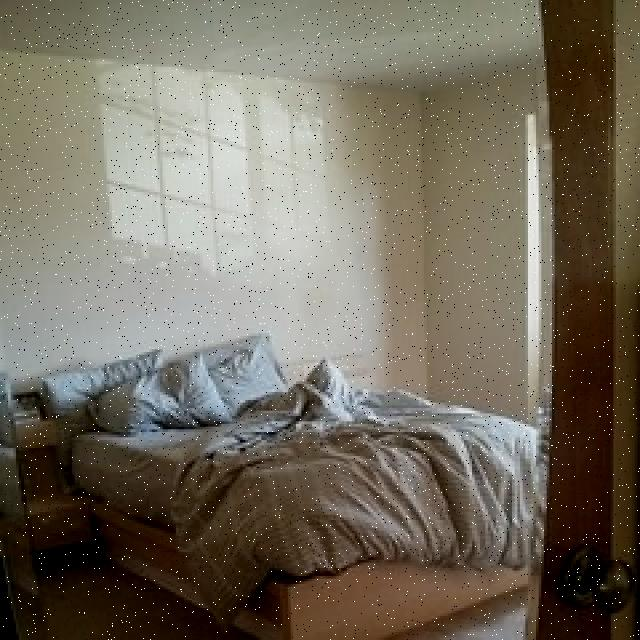bed: (40, 335, 537, 636)
